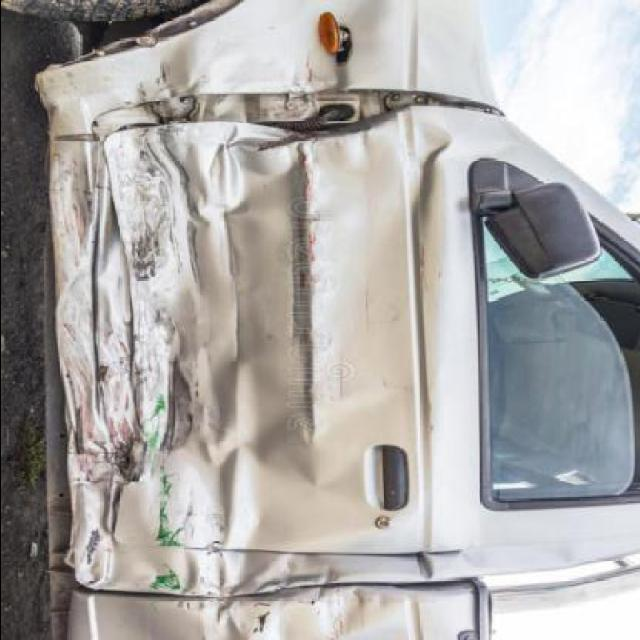doorouter-dent: (50, 118, 523, 534)
fender-dent: (52, 2, 488, 112)
